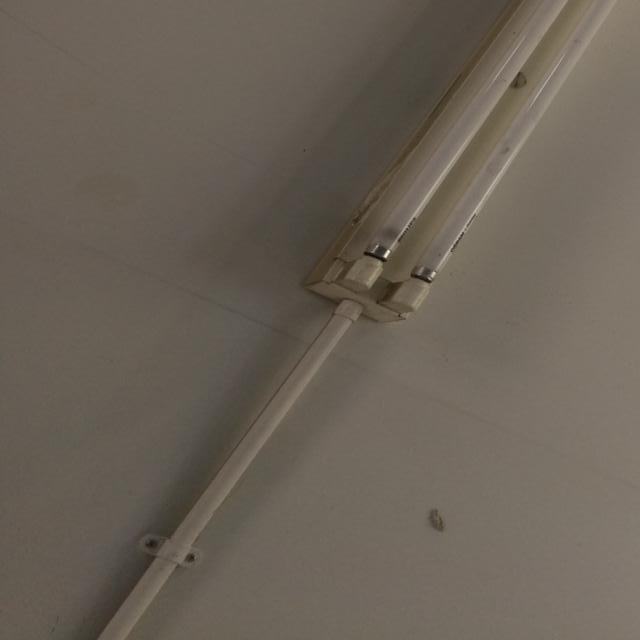fluorescent tube: (279, 0, 640, 361)
